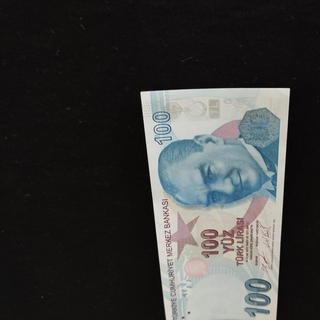100TLFront: (140, 87, 291, 320)
